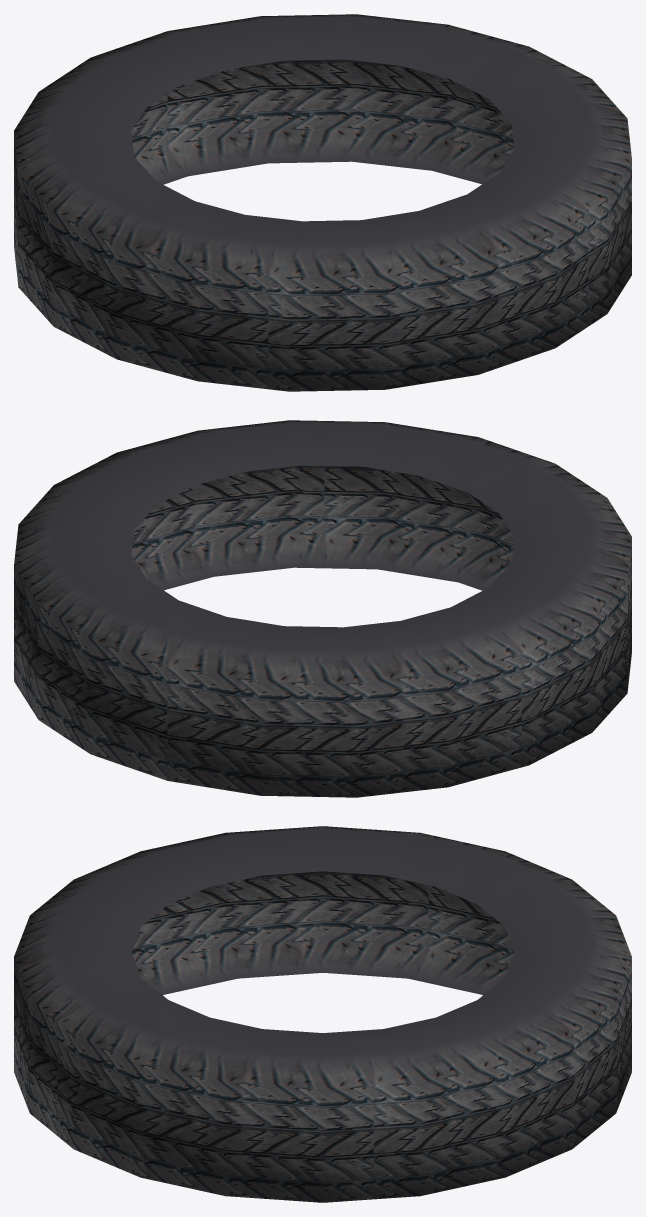
File: tire.obj
3 views of the same model, one above another, from view 1: azimuth 30°, elevation 25°; view 2: azimuth 150°, elevation 25°; view 3: azimuth 270°, elevation 25° (orthographic).
Parts seen in each view (by area): view 1: Object01; view 2: Object01; view 3: Object01.
Boxes of the visible parts, left/top/right/bottom form: Object01: left=14, top=14, right=631, bottom=391; Object01: left=14, top=420, right=631, bottom=797; Object01: left=14, top=826, right=631, bottom=1202.
Size of the model in its own units: 0.5618 by 0.144 by 0.5618.
2 materials, 2 textured.
